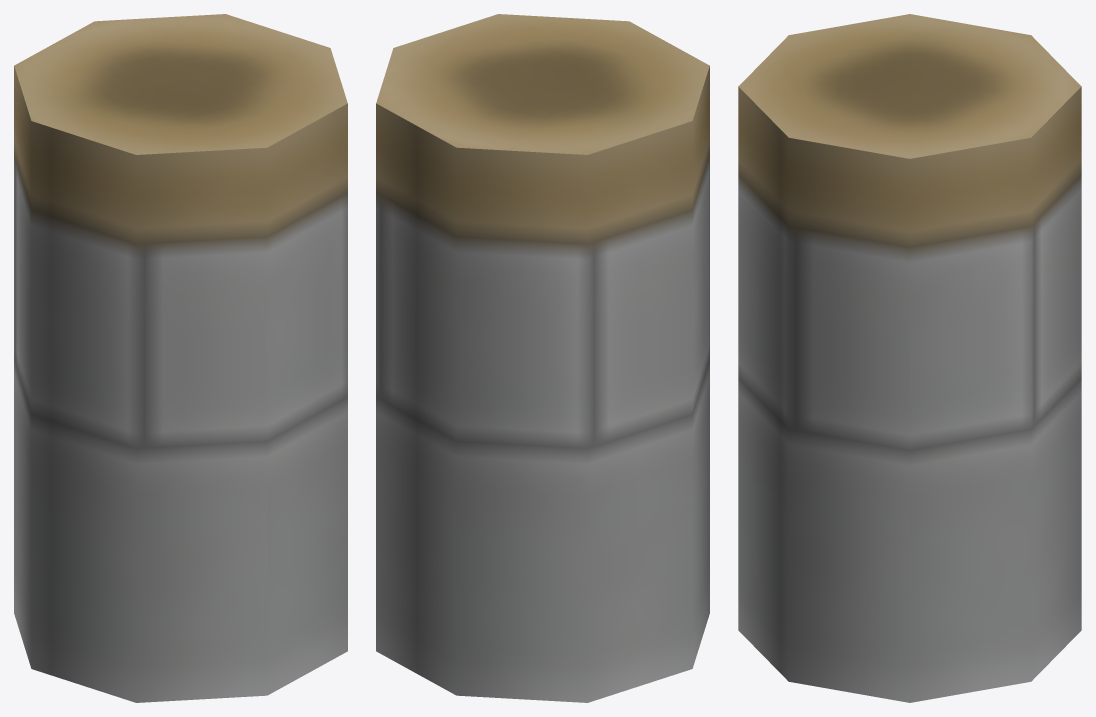
File: Eridani_Antenna_2_Base.obj
The picture shows the model from 3 angles, left to right: view 1: azimuth 30°, elevation 25°; view 2: azimuth 150°, elevation 25°; view 3: azimuth 270°, elevation 25°; orthographic projection.
Parts seen in each view (by area): view 1: Eridani_Antenna_2_Base; view 2: Eridani_Antenna_2_Base; view 3: Eridani_Antenna_2_Base.
Boxes of the visible parts, <box> form: Eridani_Antenna_2_Base: <box>14,14,347,702</box>; Eridani_Antenna_2_Base: <box>376,14,709,702</box>; Eridani_Antenna_2_Base: <box>738,14,1081,702</box>.
Size of the model in its own units: 0.05 by 0.0875 by 0.05.
